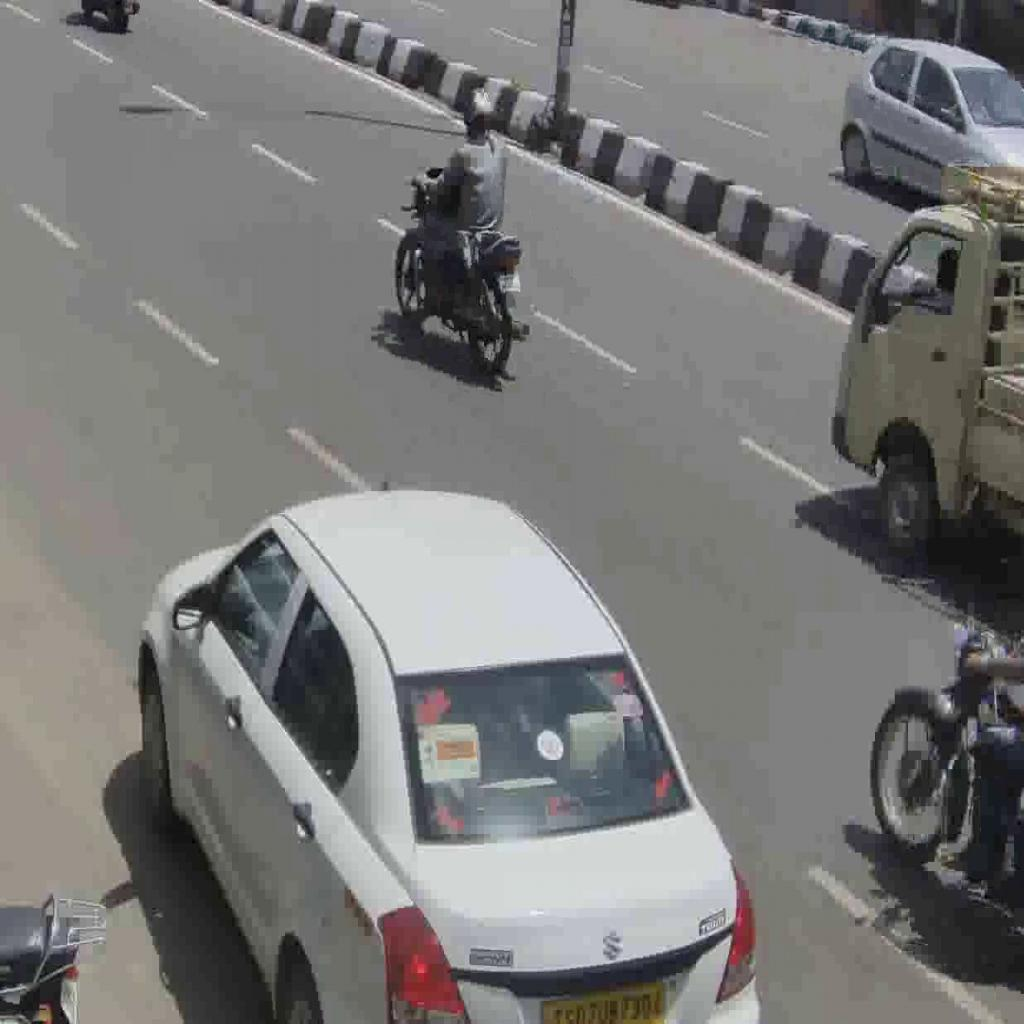helmet: (394, 162, 531, 376)
